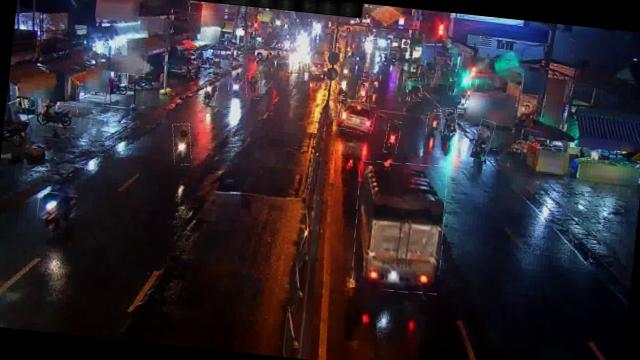Bike: (36, 192, 78, 232), (170, 123, 193, 166), (41, 103, 78, 128), (472, 120, 494, 162), (384, 121, 402, 154), (202, 75, 220, 107), (439, 107, 458, 135), (245, 72, 262, 99), (426, 112, 444, 137), (405, 78, 423, 102), (126, 73, 152, 88), (356, 78, 371, 103), (228, 70, 242, 94), (368, 70, 381, 93)
Car: (336, 99, 376, 134)
Truck: (348, 159, 451, 296)
